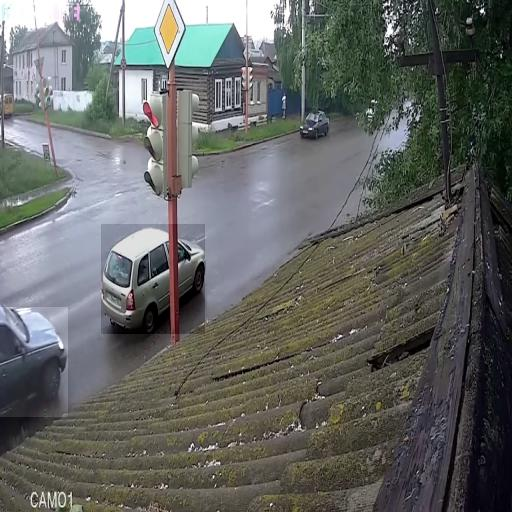小汽车: (101, 224, 205, 334), (0, 308, 68, 418), (300, 108, 330, 142)
